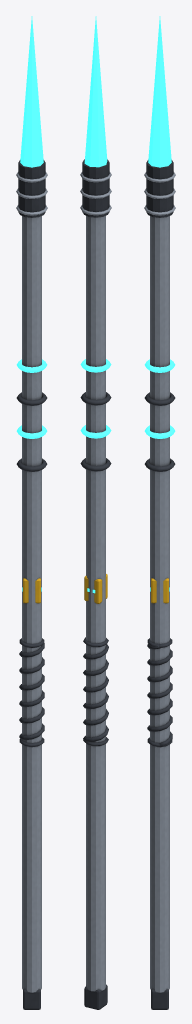
Rendered from 11_mechanical_spear.fbx.
The picture shows the model from 3 angles, left to right: view 1: azimuth 90°, elevation 25°; view 2: azimuth 150°, elevation 25°; view 3: azimuth 270°, elevation 25°; orthographic projection.
Visible parts, largest first — view 1: Weapon; view 2: Weapon; view 3: Weapon.
Part boxes in pixels (x1=…): Weapon: x1=16, y1=16, x2=47, y2=1009; Weapon: x1=80, y1=16, x2=111, y2=1009; Weapon: x1=144, y1=16, x2=175, y2=1009.
Size of the model in its own units: 6.52 by 224 by 6.52.
2 materials, 1 textured.
